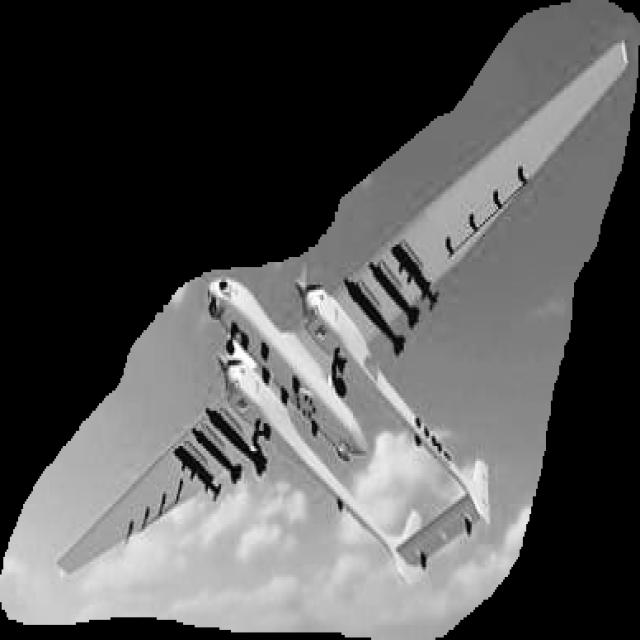iha: (13, 5, 627, 569)
